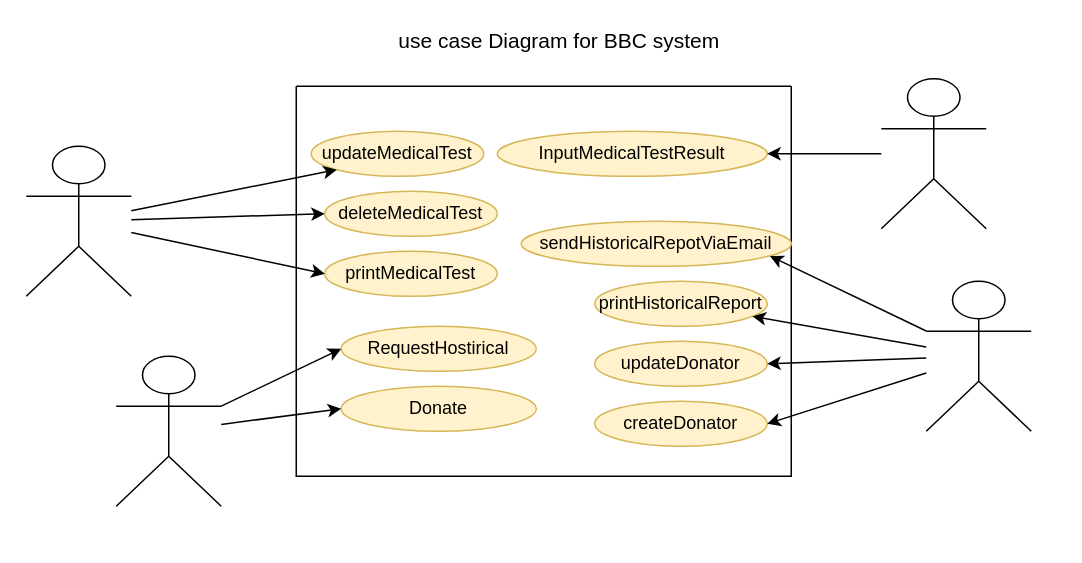
Some shapes in this 1082 by 563 pixel diagram are drawn without their labels. The centre of each missing label's shape, as x and y in pixels:
Donator: [168,430]
HeadBBC: [78,220]
LaboratoryAgent: [933,153]
ReceptionDesk: [978,355]
